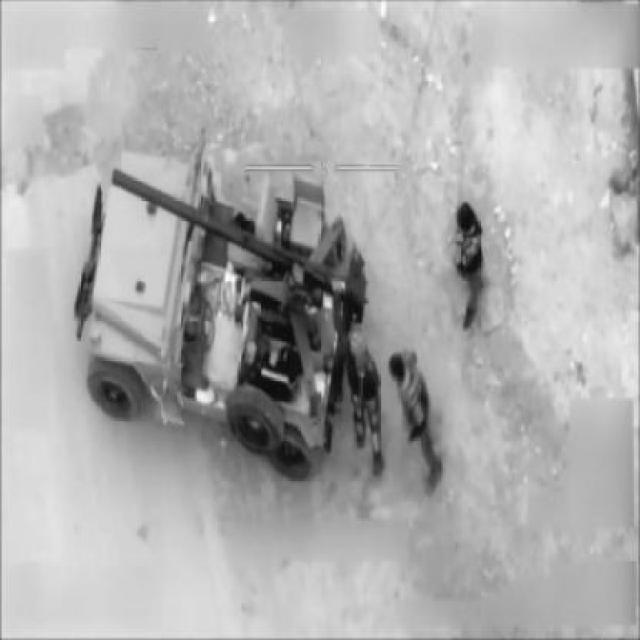Person: (386, 339, 449, 483), (445, 193, 491, 339), (343, 329, 385, 483)
Vehicle: (70, 150, 369, 484)
